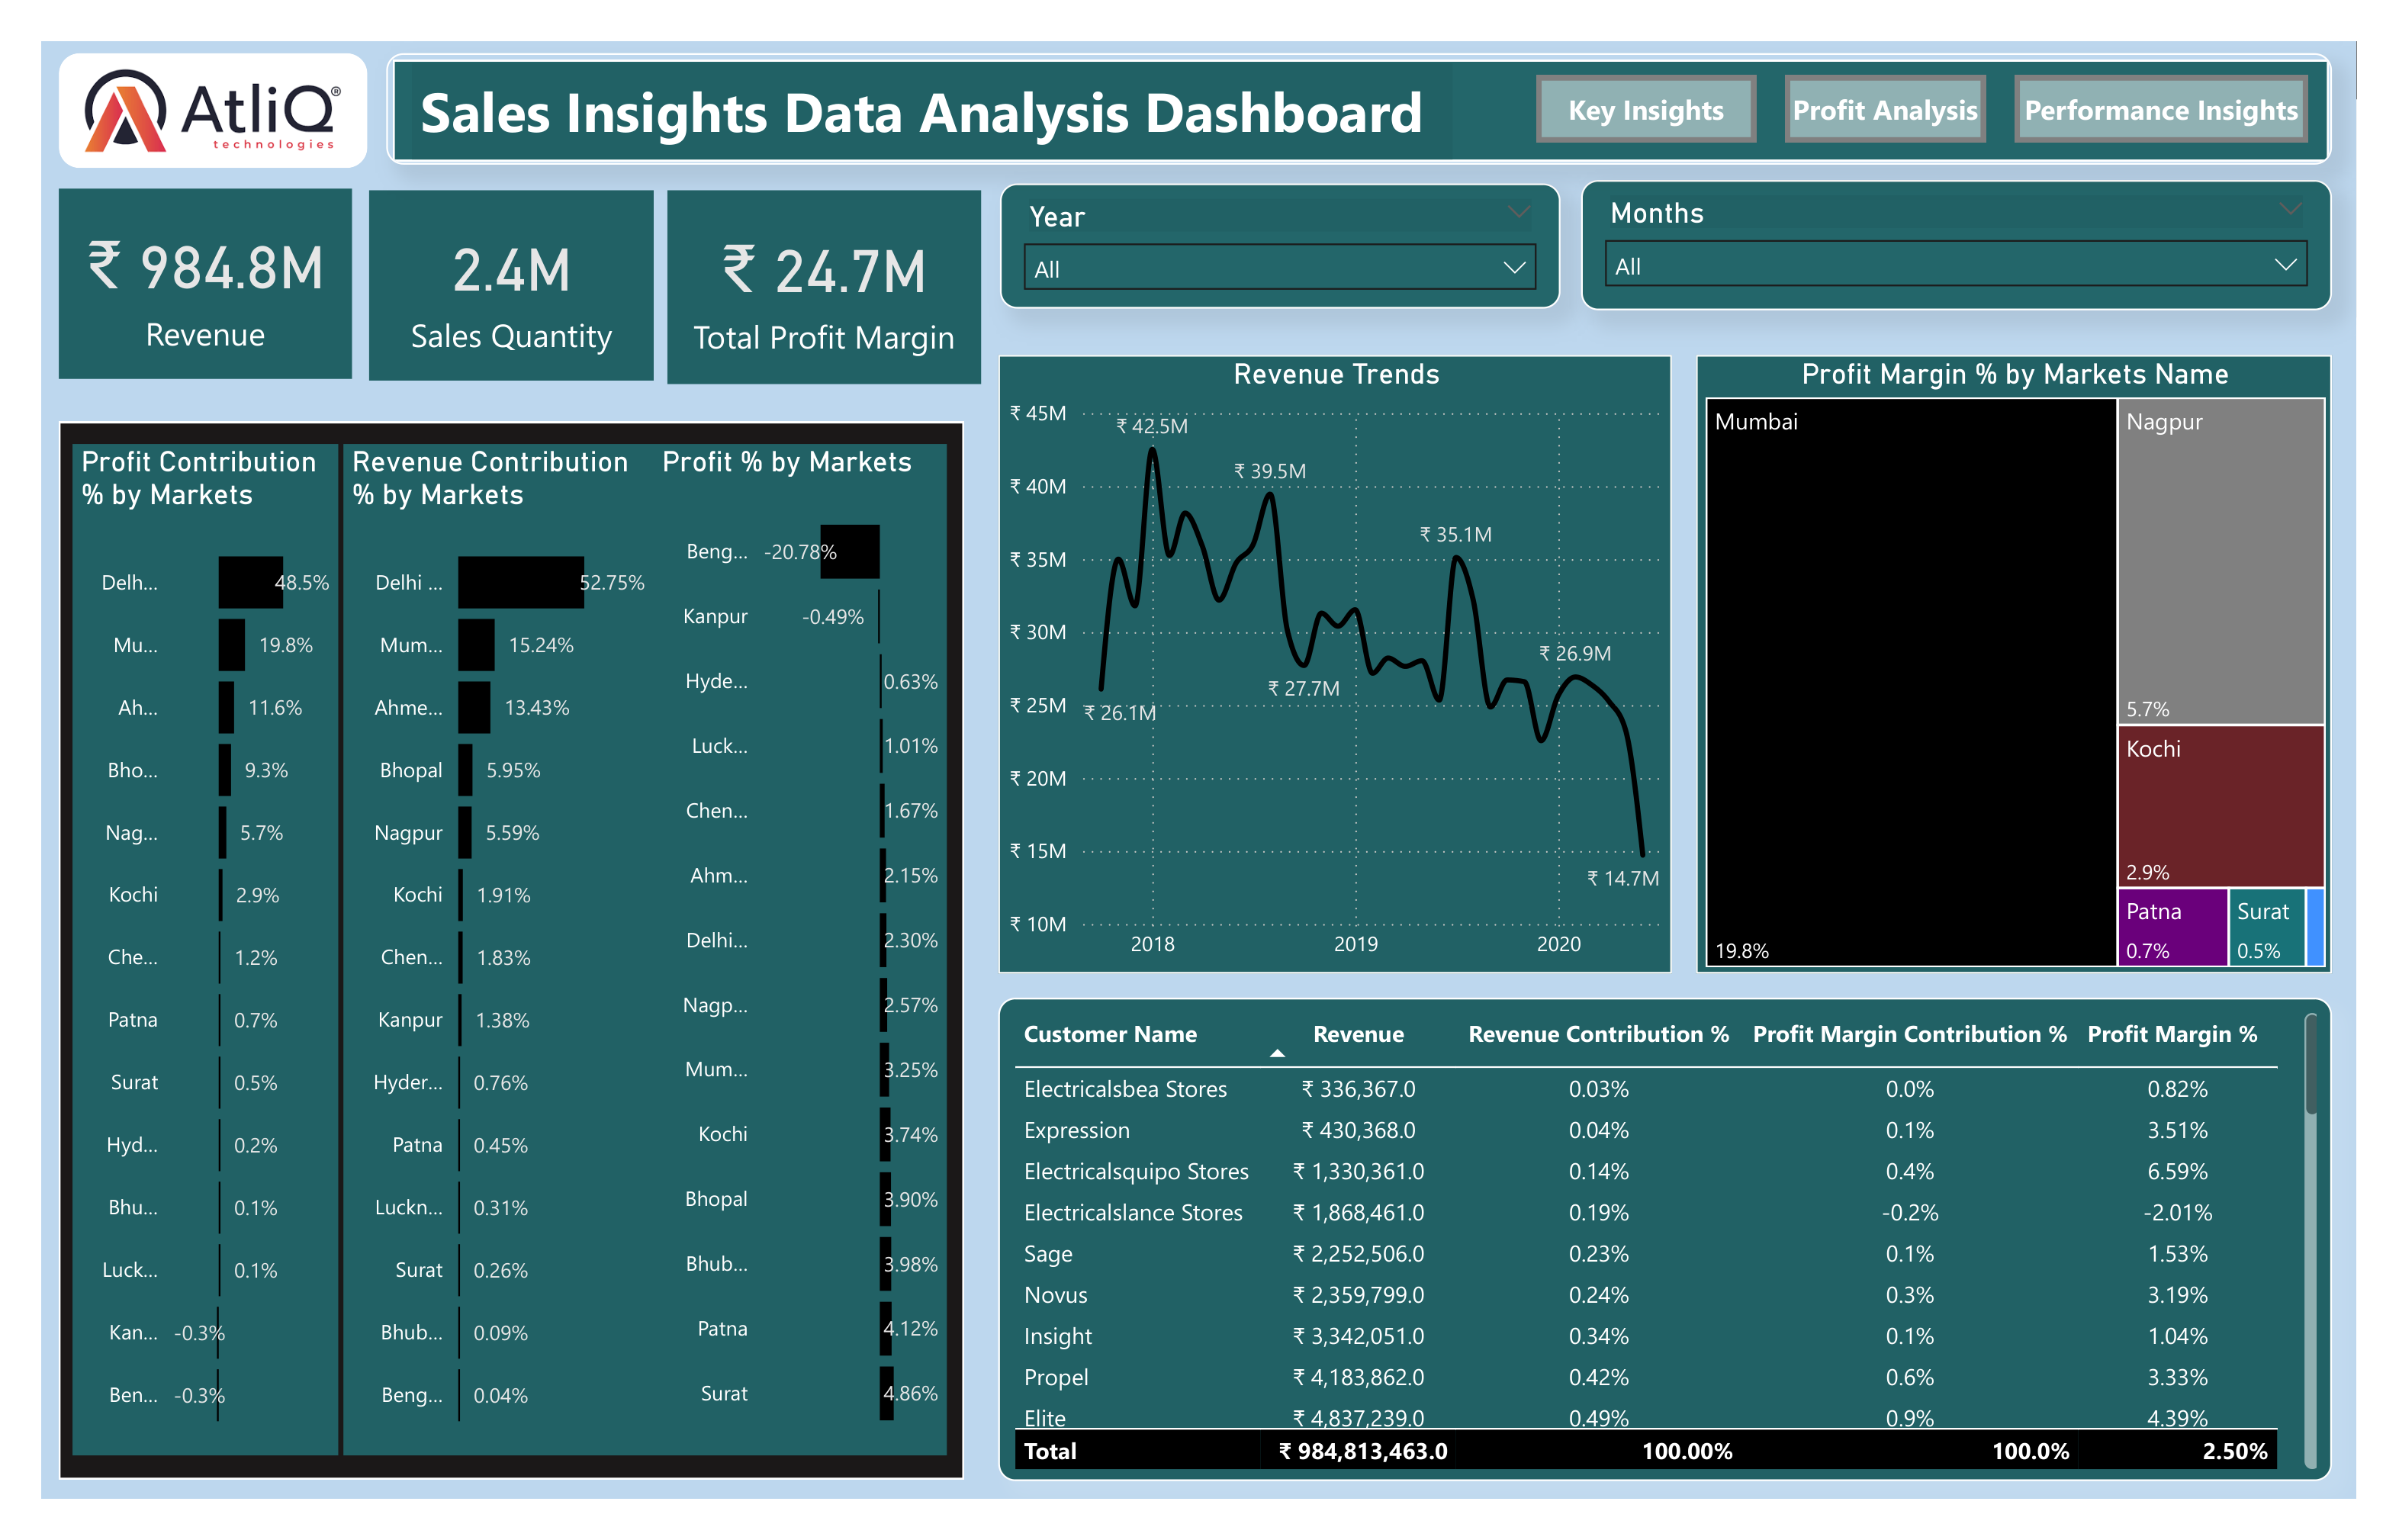

The dashboard page shown, as its layout file describes it:
{"tool":"powerbi","page":{"name":"Profit Analysis","canvas":[1350,850],"ordinal":1},"visuals":[{"type":"shape","box":[9.8,222,528.3,616.8],"z":0},{"type":"card","fields":{"Values":["keymeasure.Revenue"]},"box":[9.8,85.7,171.4,111],"z":1000},{"type":"card","fields":{"Values":["keymeasure.sales quntity"]},"box":[191.1,87.1,165.8,111],"z":2000},{"type":"barChart","title":"Revenue Contribution % by Markets","fields":{"Y":["keymeasure.Revenue Contribution %"],"Category":["sales markets.markets_name"]},"box":[176,235,181,590],"z":3000},{"type":"barChart","title":"Profit Contribution % by Markets","fields":{"Y":["keymeasure.Profit Margin Contribution %"],"Category":["sales markets.markets_name"]},"box":[18,235,163,590],"z":4000},{"type":"slicer","fields":{"Values":["sales date.year"]},"box":[559,82.9,327.4,73.1],"z":5000},{"type":"slicer","fields":{"Values":["sales date.cy_date"]},"box":[897.8,81.5,438.3,75.9],"z":6000},{"type":"lineChart","title":"Revenue Trends","fields":{"Y":["keymeasure.Revenue"],"Category":["sales date.cy_date"]},"box":[557.8,182.6,393,361.1],"z":7000},{"type":"barChart","title":"Profit % by Markets","fields":{"Y":["keymeasure.Profit Margin %"],"Category":["sales markets.markets_name"]},"box":[356.9,234.6,171.4,590.1],"z":8000},{"type":"card","fields":{"Values":["keymeasure.Total Profit Margin"]},"box":[365.3,87.1,182.6,112.4],"z":9000},{"type":"tableEx","fields":{"Values":["sales customers.custmer_name","keymeasure.Revenue","keymeasure.Revenue Contribution %","keymeasure.Profit Margin Contribution %","keymeasure.Profit Margin %"]},"box":[557.8,557.8,778.3,282.4],"z":10000},{"type":"treemap","title":"Profit Margin % by Markets Name","fields":{"Group":["sales markets.markets_name"],"Values":["keymeasure.Profit Margin Contribution %"]},"box":[965,182.6,370.9,361.1],"z":11000},{"type":"shape","box":[200.9,7,1135.2,64.6],"z":12000},{"type":"actionButton","box":[872.5,19.7,127.9,39.3],"z":13000},{"type":"actionButton","box":[1017.2,19.7,116.6,39.3],"z":14000},{"type":"actionButton","box":[1150.7,19.7,171.4,39.3],"z":15000},{"type":"shape","box":[9.8,7,179.8,67.4],"z":16000},{"type":"image","box":[14,7,171.4,67.4],"z":17000},{"type":"textbox","box":[216.4,12.6,606.9,56.2],"z":18000}]}

Visuals, with their boxes in screenshot pixels (x1, y1, x2, y2), scaled from the page's 1350x850 canvas onto the 2399x1540 screenshot:
shape: box=[18, 402, 957, 1519]
card - keymeasure.Revenue: box=[18, 156, 322, 356]
card - keymeasure.sales quntity: box=[339, 158, 634, 359]
"Revenue Contribution % by Markets" barChart: box=[313, 426, 635, 1495]
"Profit Contribution % by Markets" barChart: box=[32, 426, 322, 1495]
slicer - sales date.year: box=[993, 150, 1575, 283]
slicer - sales date.cy_date: box=[1596, 148, 2375, 285]
"Revenue Trends" lineChart: box=[991, 331, 1690, 985]
"Profit % by Markets" barChart: box=[634, 425, 939, 1494]
card - keymeasure.Total Profit Margin: box=[649, 158, 973, 362]
tableEx - sales customers.custmer_name x keymeasure.Revenue: box=[991, 1011, 2375, 1522]
"Profit Margin % by Markets Name" treemap: box=[1715, 331, 2374, 985]
shape: box=[357, 13, 2375, 130]
actionButton: box=[1551, 36, 1778, 107]
actionButton: box=[1808, 36, 2015, 107]
actionButton: box=[2045, 36, 2349, 107]
shape: box=[18, 13, 337, 135]
image: box=[25, 13, 330, 135]
textbox: box=[384, 23, 1463, 124]
